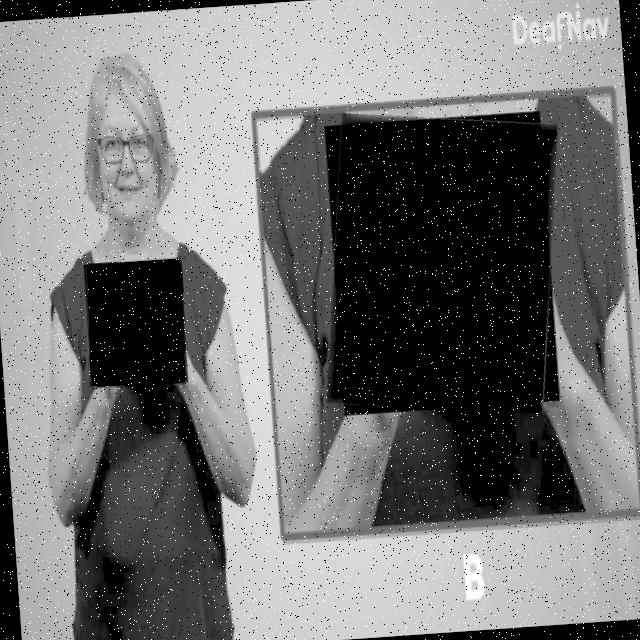B: (316, 105, 570, 424), (83, 258, 190, 391)
